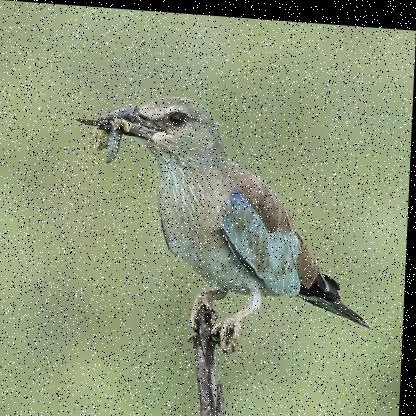Burung: (71, 89, 380, 350)
